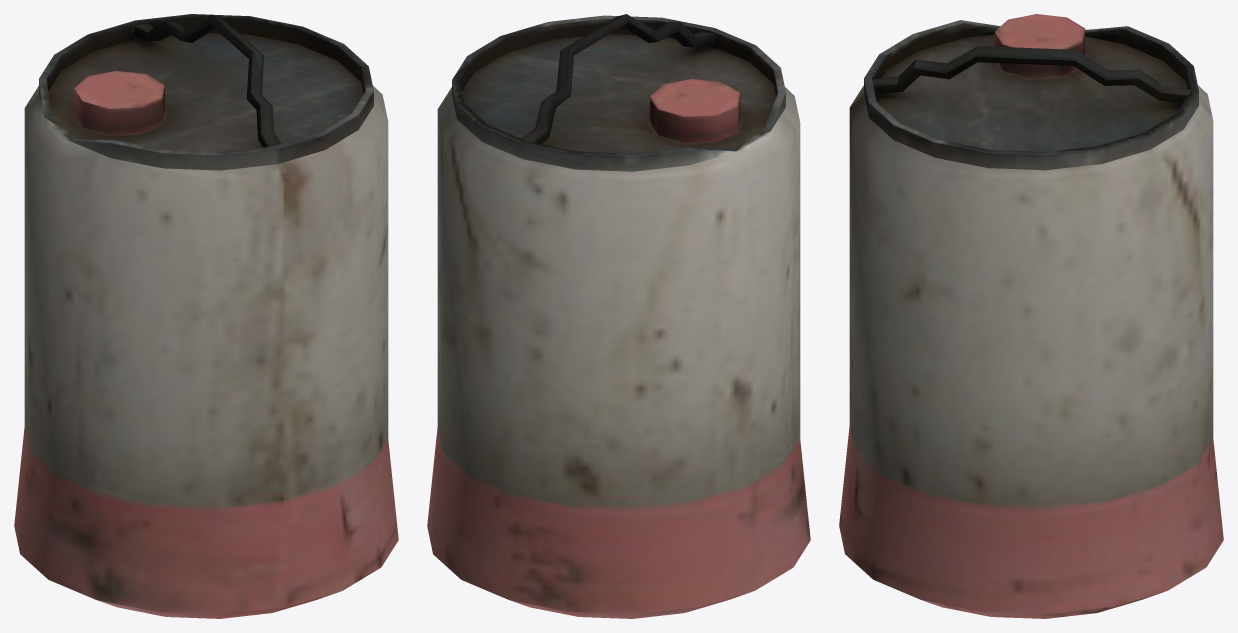
File: PaintContainer.FBX
3 views of the same model, side by side, from view 1: azimuth 30°, elevation 25°; view 2: azimuth 150°, elevation 25°; view 3: azimuth 270°, elevation 25° (orthographic).
Visible parts, largest first — view 1: PaintContainer; view 2: PaintContainer; view 3: PaintContainer.
Boxes of the visible parts, x1=… form: PaintContainer: x1=14, y1=14, x2=398, y2=618; PaintContainer: x1=427, y1=14, x2=810, y2=618; PaintContainer: x1=839, y1=14, x2=1223, y2=618.
Bounding box in the file's own units: 38.09 × 56.44 × 38.09.
